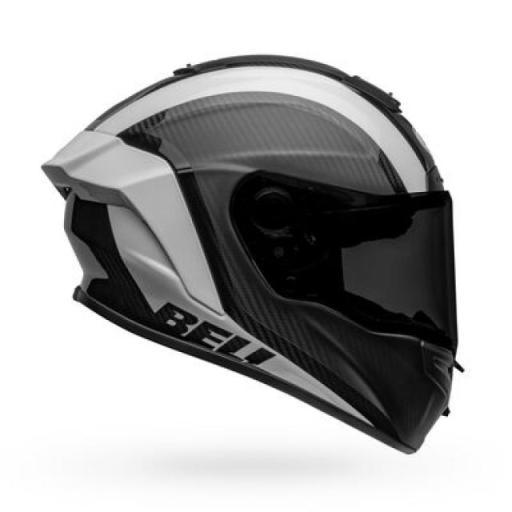Helmet: (44, 56, 456, 452)
